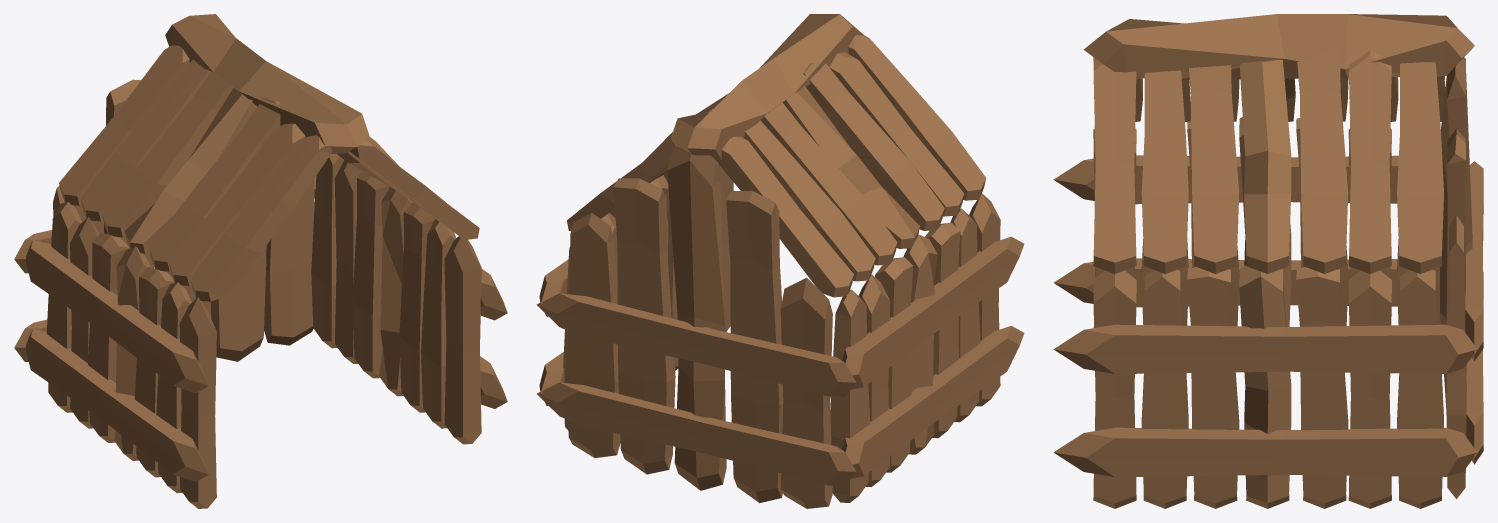
Rendered from Hut_1.fbx.
The picture shows the model from 3 angles, left to right: view 1: azimuth 30°, elevation 25°; view 2: azimuth 150°, elevation 25°; view 3: azimuth 270°, elevation 25°; orthographic projection. The views are drawn at different scales.
Visible parts, largest first — view 1: Hut_mesh; view 2: Hut_mesh; view 3: Hut_mesh.
Part boxes in pixels (bbox=[...]): Hut_mesh: bbox=[14, 14, 507, 508]; Hut_mesh: bbox=[536, 14, 1024, 508]; Hut_mesh: bbox=[1053, 14, 1483, 508].
Bounding box in the file's own units: 436 × 482 × 433.
